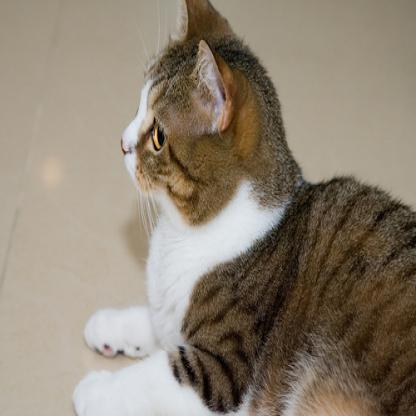cat: (71, 0, 415, 415)
